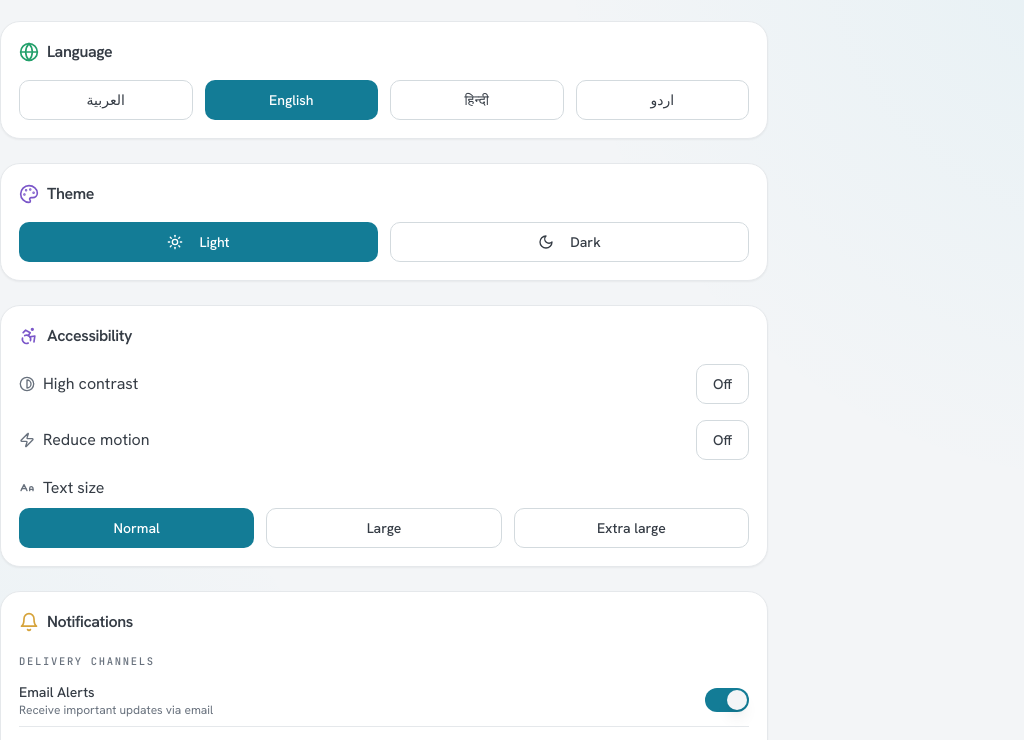
UserProfile a11y control names (#226) › toggles high contrast on and applies the root class
This screenshot has width=1024, height=740.
(page scrolled)
Click the button with aria-label "high contrast" at coordinates (722, 384), box left=696, top=364, right=749, bottom=404
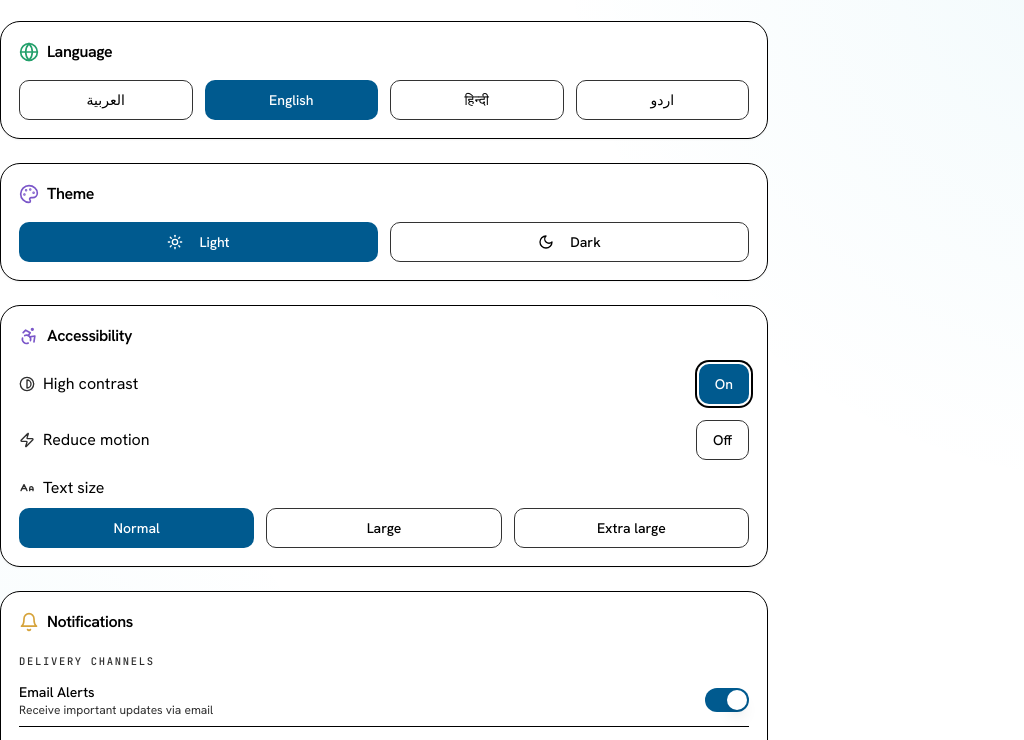
Expected: the button with aria-label "high contrast" is pressed, left=699, top=364, right=749, bottom=404
